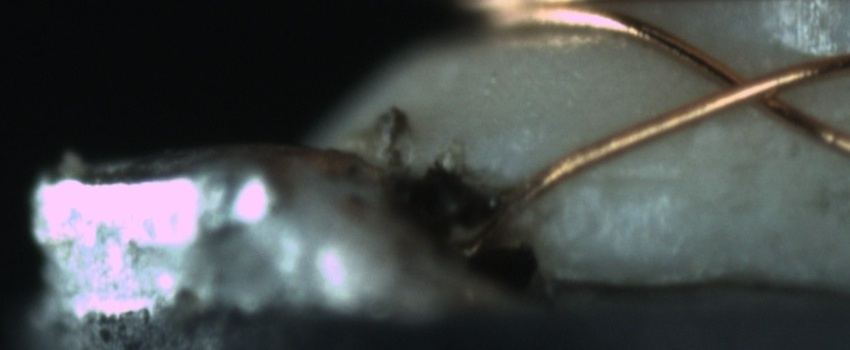CL: (695, 56, 801, 120)
DL: (572, 152, 687, 208)
